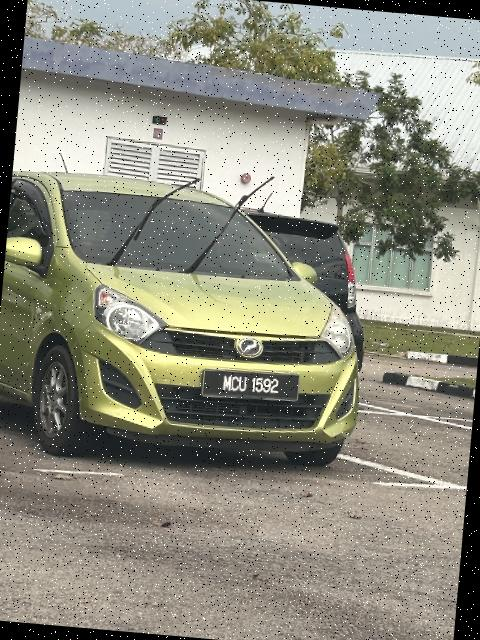License_Plate: (203, 369, 301, 401)
car: (1, 163, 380, 470)
